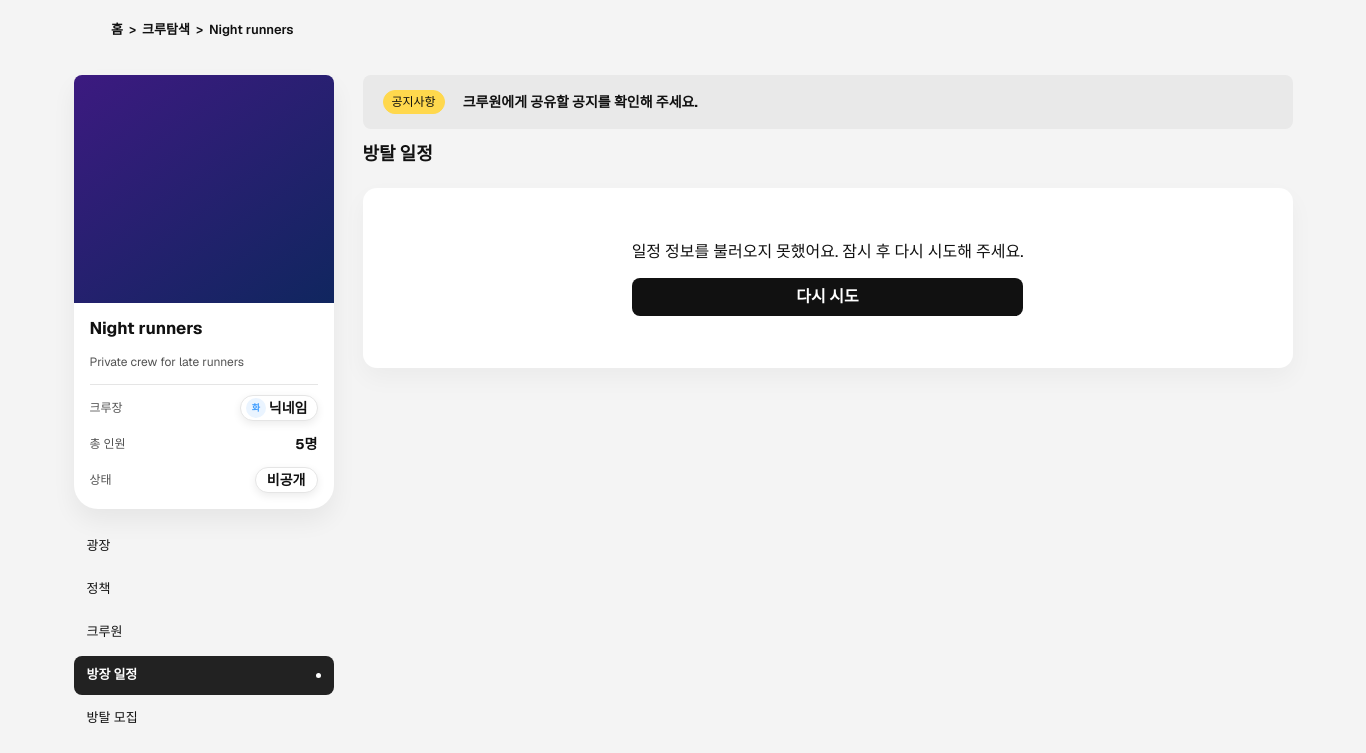
Test case: CrewSchedulePage › keeps the page visible when schedule loading fails and allows retry
Expected: the text "일정 정보를 불러오지 못했어요. 잠시 후 다시 시도해 주세요." is shown, [632,240,1023,264]
Expected: the heading "방탈 일정" is shown, [362,142,433,165]
Click the button "다시 시도". click: {"x": 827, "y": 297}
box: [632,278,1023,316]
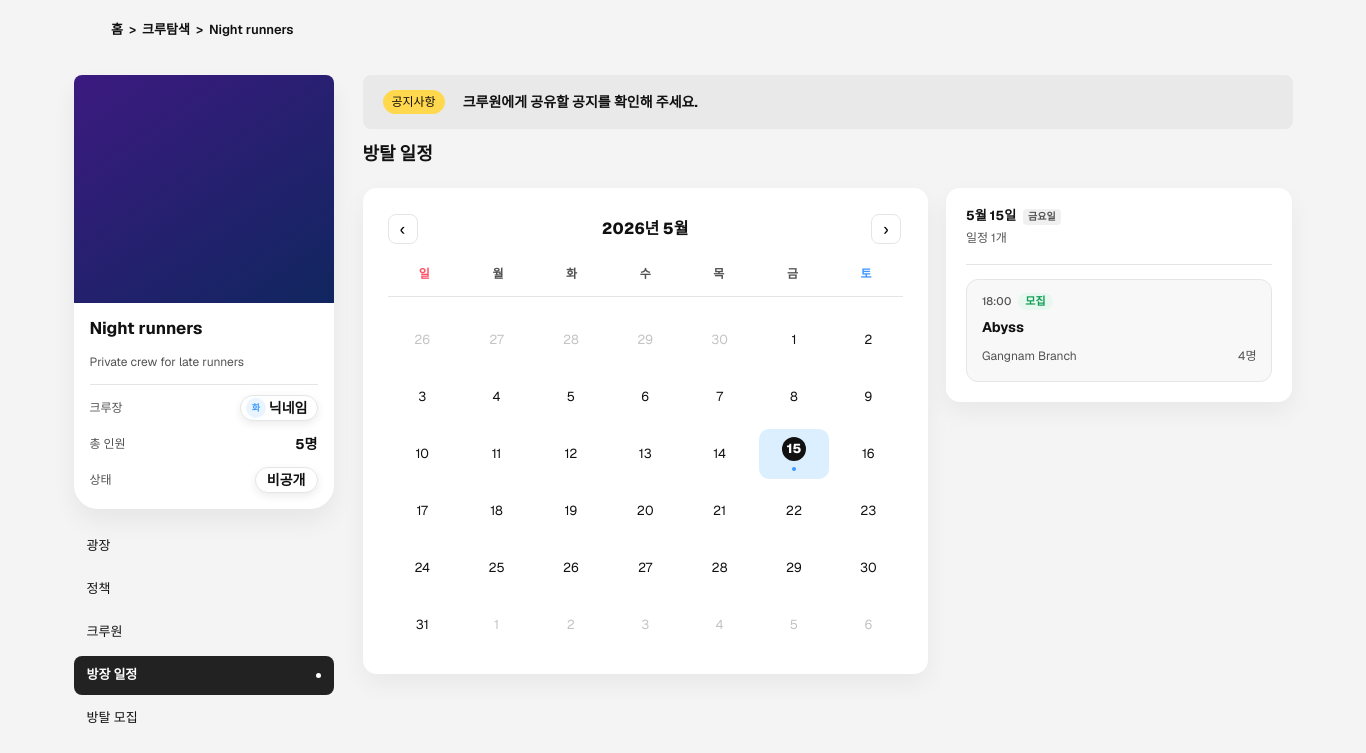
Expected: the text "Abyss" is shown, [982,318,1024,336]
